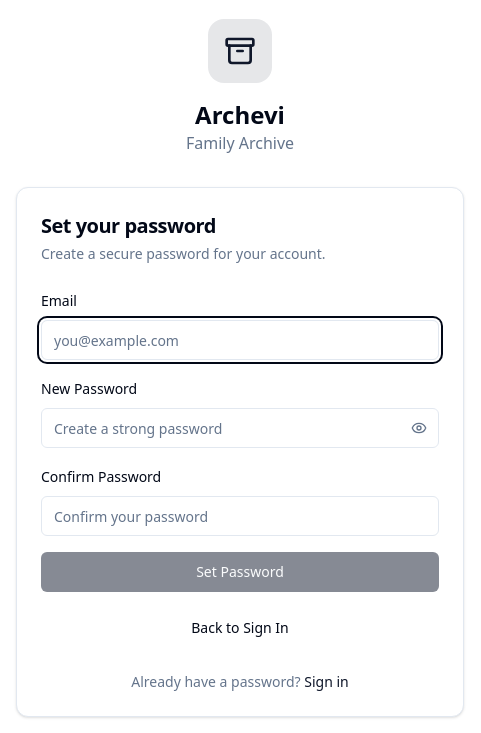
Test: SetPasswordPage › handles network errors
Type "test@example.com" into the field labelled "Email".
click(240, 340); type("test@example.com")  # box left=41, top=320, right=439, bottom=360
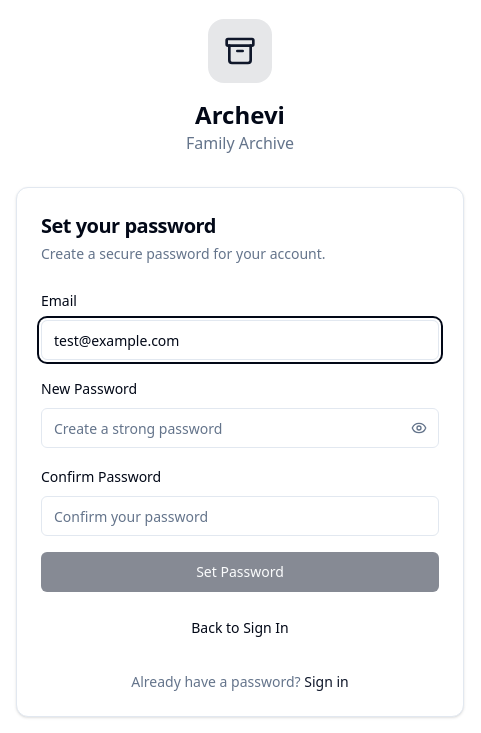
Type "StrongPass1" into the password field labelled "New Password".
click(240, 428); type("StrongPass1")  # box left=41, top=408, right=439, bottom=448
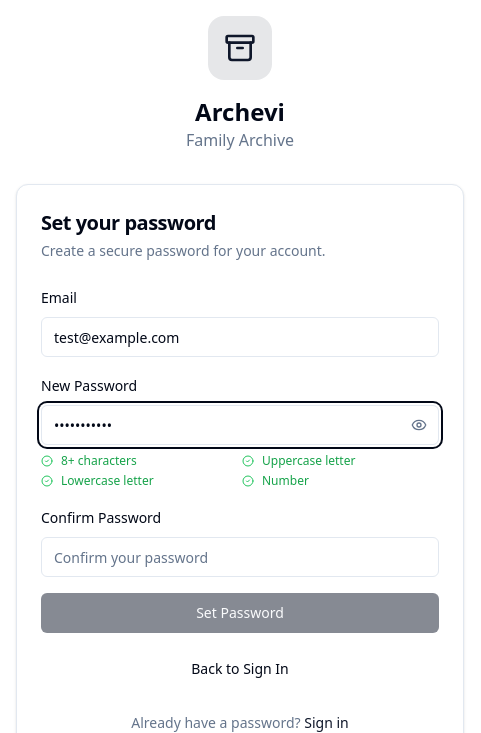
Type "StrongPass1" into the password field labelled "Confirm Password".
click(240, 557); type("StrongPass1")  # box left=41, top=537, right=439, bottom=577
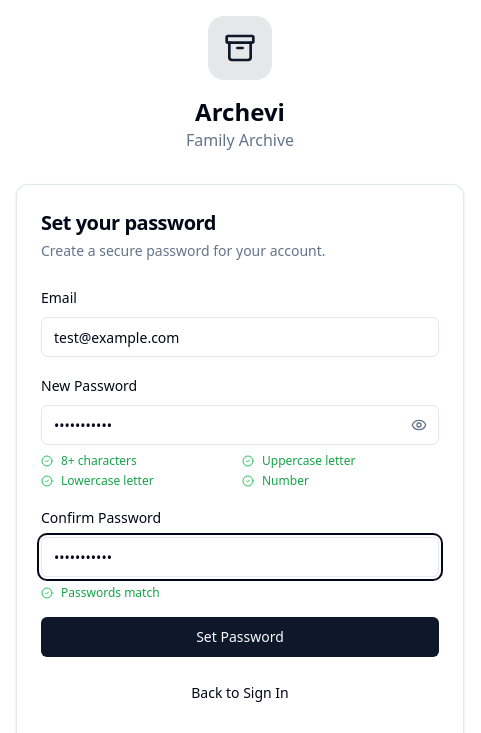
Click the button "Set Password".
click(240, 637)  # box left=41, top=617, right=439, bottom=657
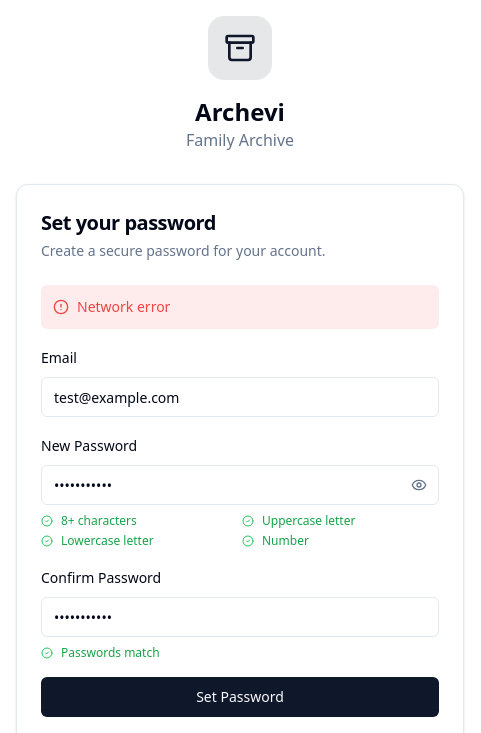
Expected: the text "Network error" is shown, left=77, top=297, right=170, bottom=317
